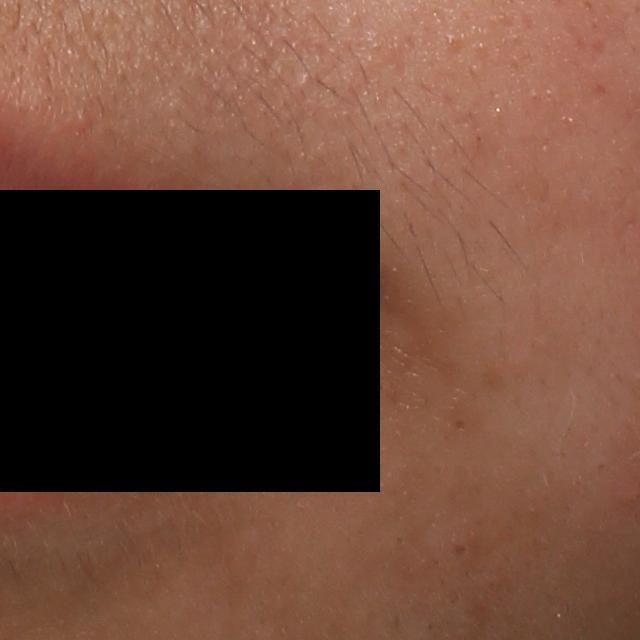comedo: (448, 538, 471, 562), (448, 416, 469, 437), (74, 109, 91, 129)
